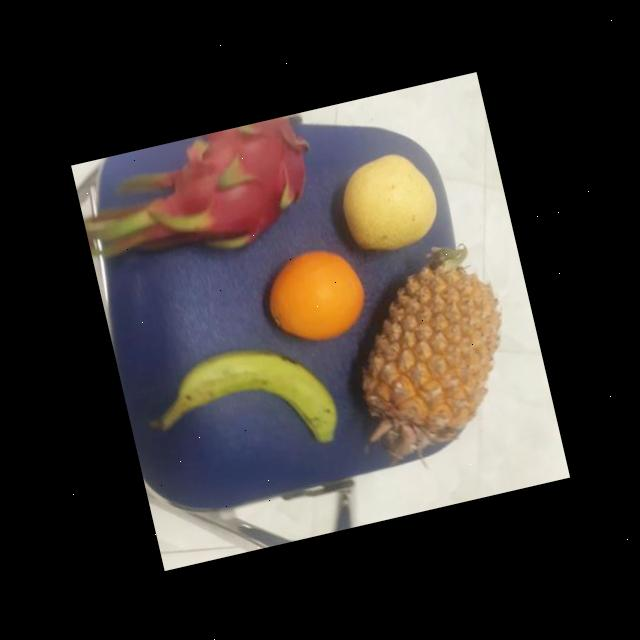banana: (163, 326, 340, 466)
orange: (258, 237, 372, 349)
pear: (332, 142, 446, 258)
pineapple: (329, 242, 523, 456)
pitaya: (148, 113, 322, 258)
